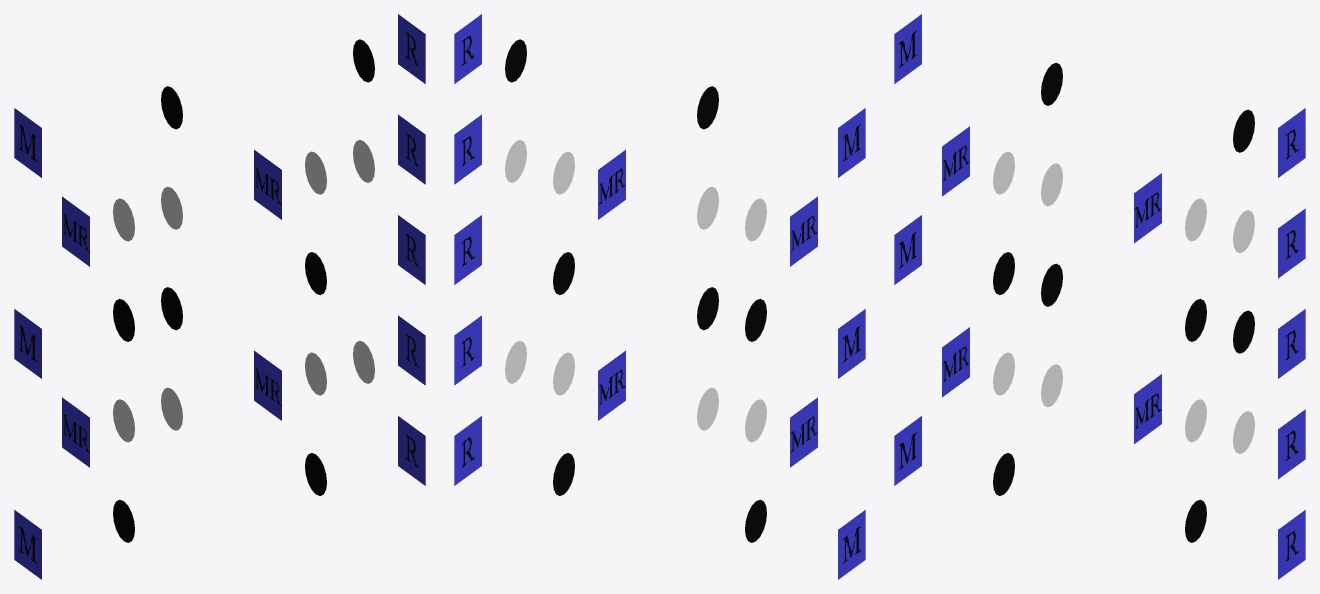
File: repetition_code.gltf
3 renders of one model, left to right at view 1: azimuth 30°, elevation 25°; view 2: azimuth 150°, elevation 25°; view 3: azimuth 330°, elevation 25°, orthographic.
Size of the model in its own units: 8 by 9 by 1.
3 materials, 1 textured.
